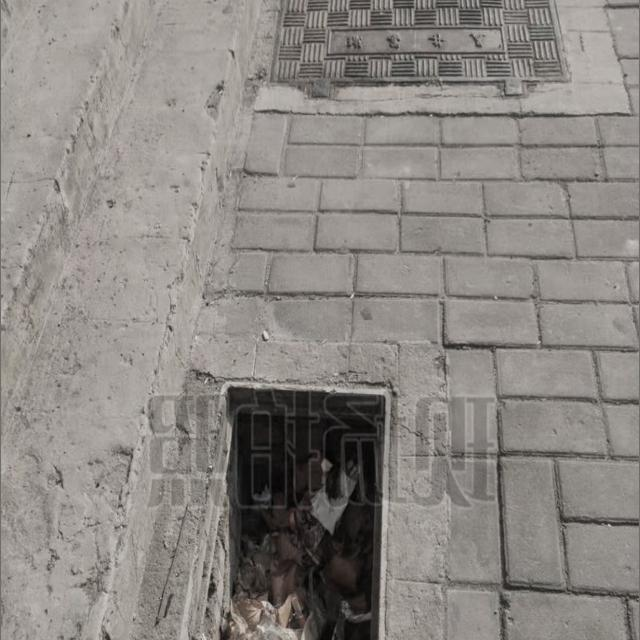good: (265, 0, 573, 102)
lose: (163, 373, 393, 640)
